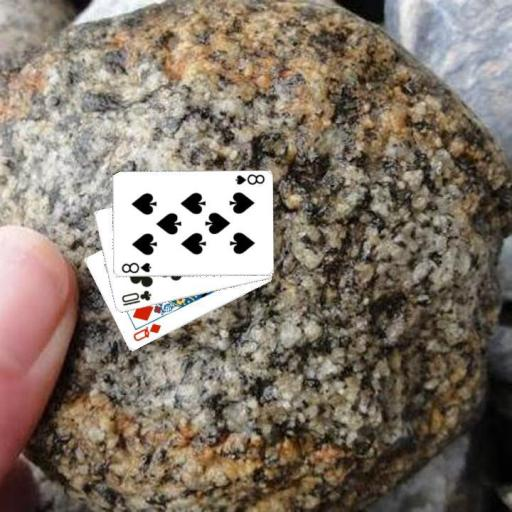10C: (118, 287, 153, 307)
8S: (118, 260, 152, 275), (232, 172, 265, 187)
QD: (129, 321, 163, 344)
